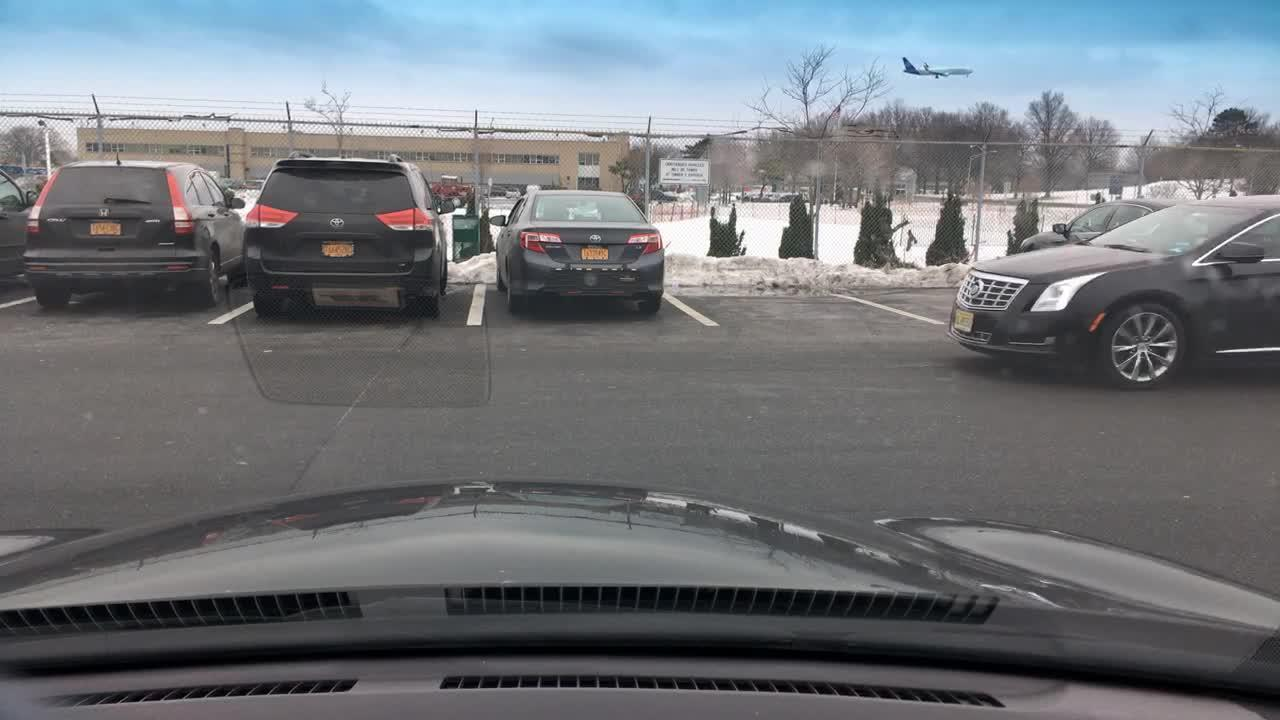Honda: (93, 204, 113, 221)
Toyota: (321, 212, 354, 236), (584, 230, 606, 249)
